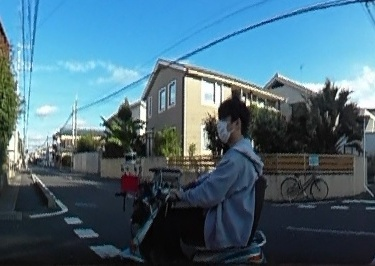person: (172, 97, 257, 266)
